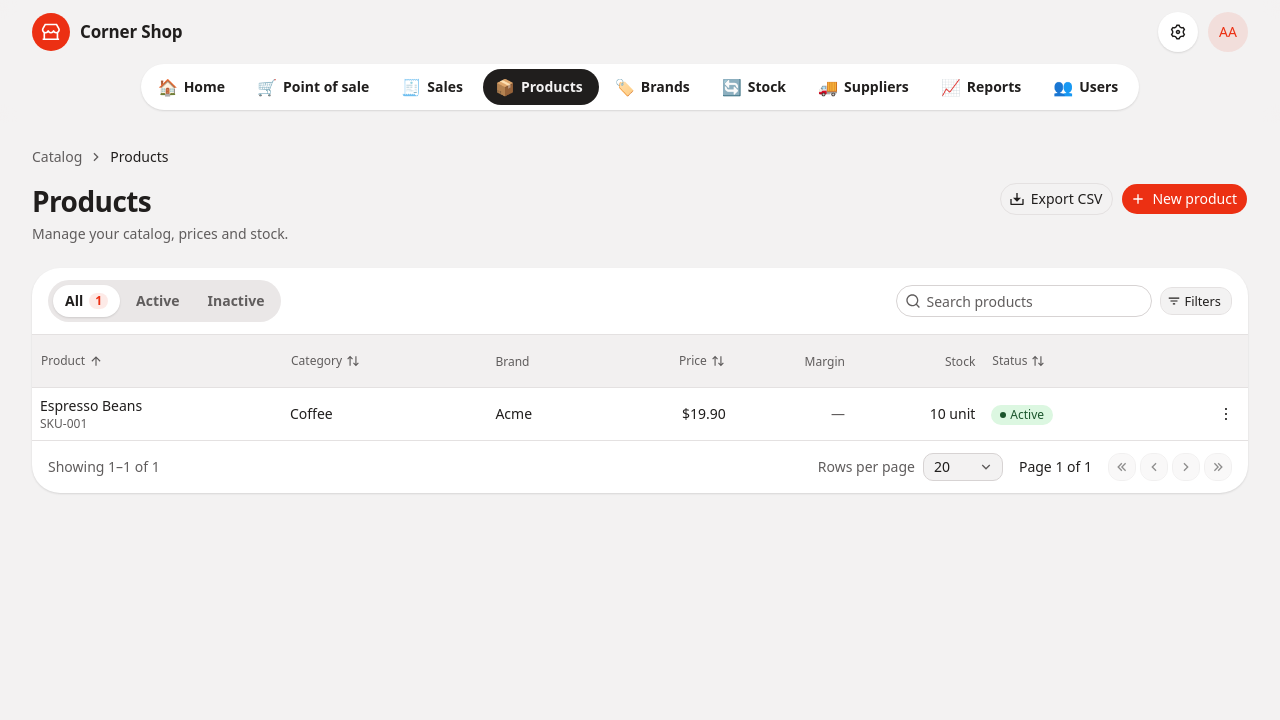
Scenario: list export › says when the export failed
This screenshot has width=1280, height=720.
expect the link "Espresso Beans" is shown: met, box x1=40 y1=396 x2=142 y2=415
Click the button "Export CSV".
click(1057, 199)  # box x1=1000 y1=183 x2=1114 y2=215
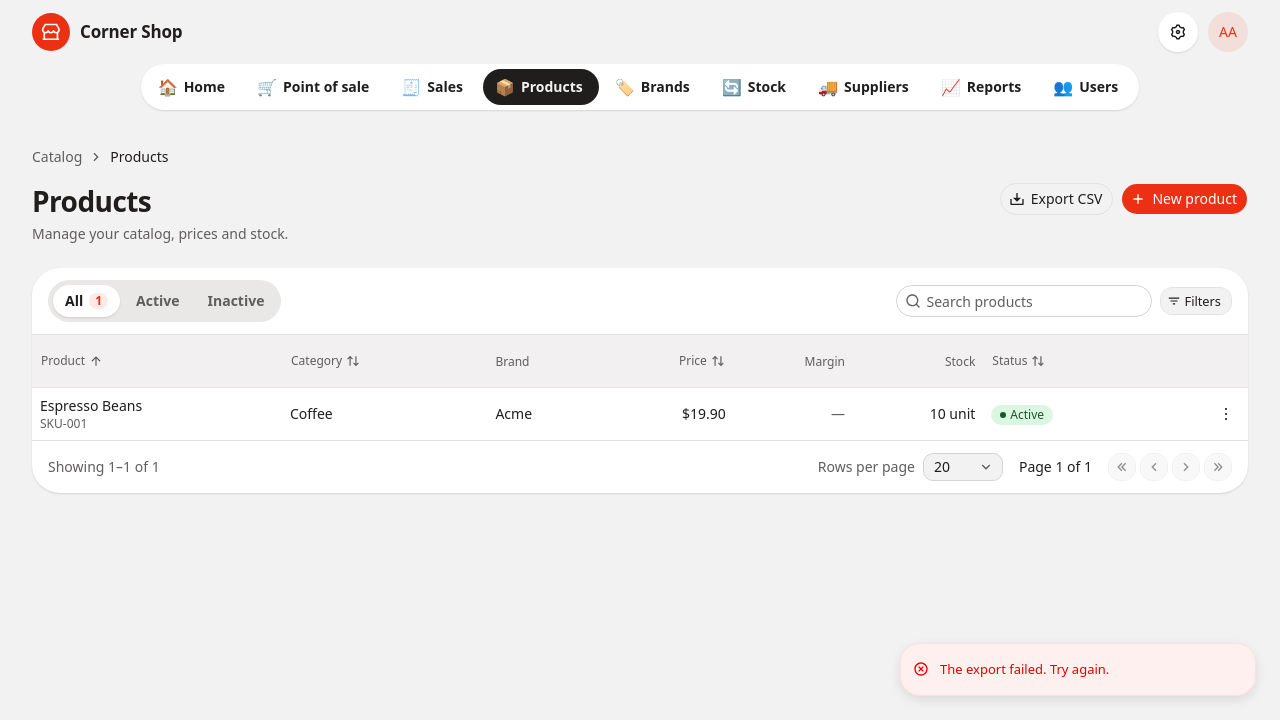
expect the text "The export failed. Try again." is shown: met, box x1=940 y1=660 x2=1109 y2=679
